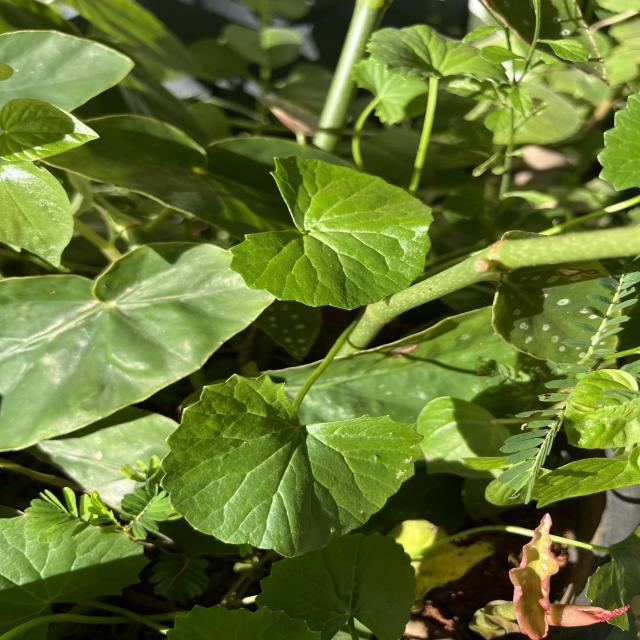Centella asiatica: (155, 369, 426, 562), (225, 152, 438, 314)
